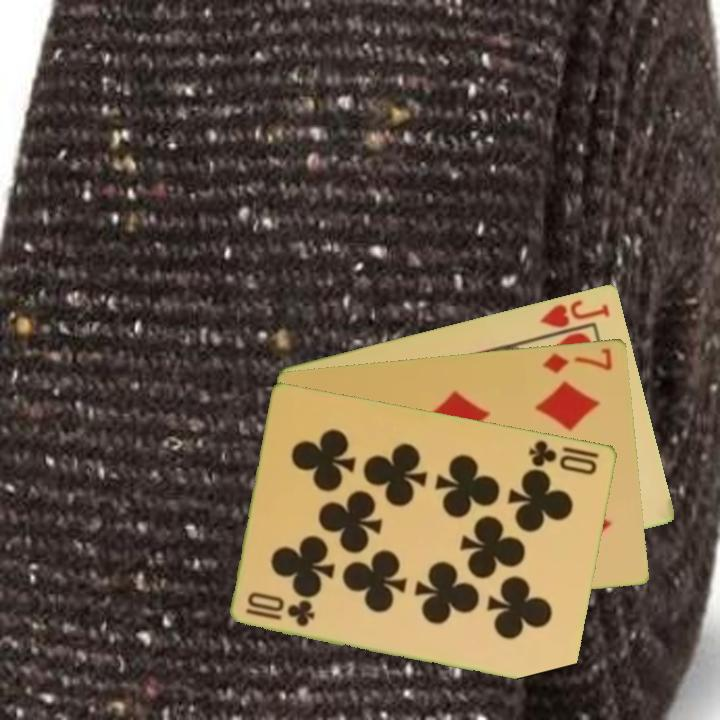10c: (242, 589, 319, 630), (526, 436, 601, 477)
7d: (539, 344, 616, 376)
Jh: (536, 296, 613, 331)
